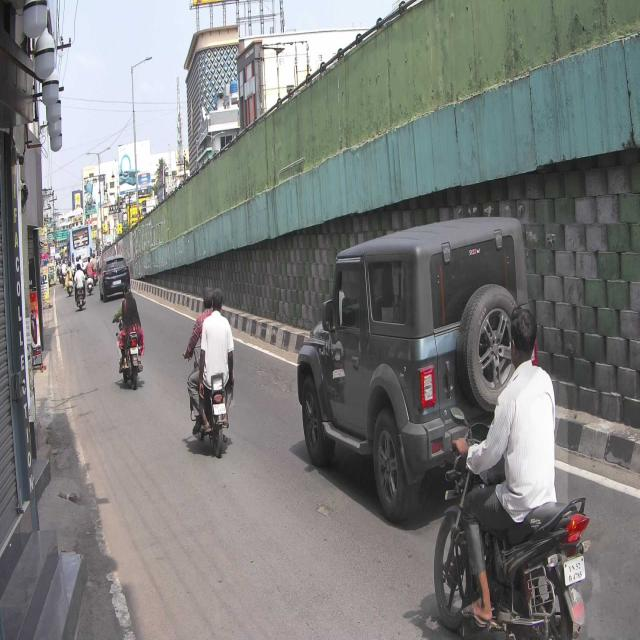double_rider: (181, 282, 236, 460)
single_rider: (433, 305, 590, 640)
